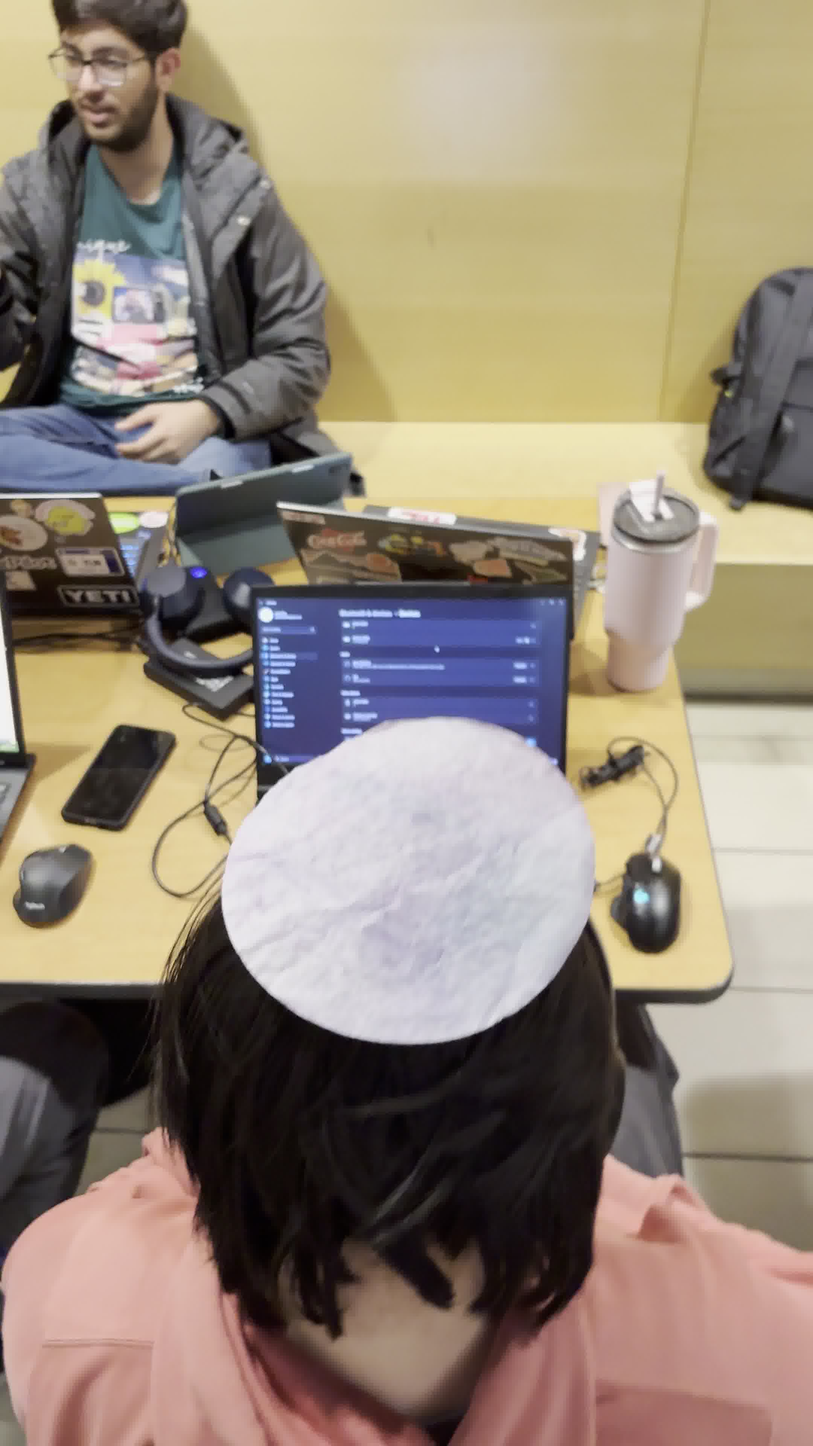Target: (224, 718, 594, 1044)
